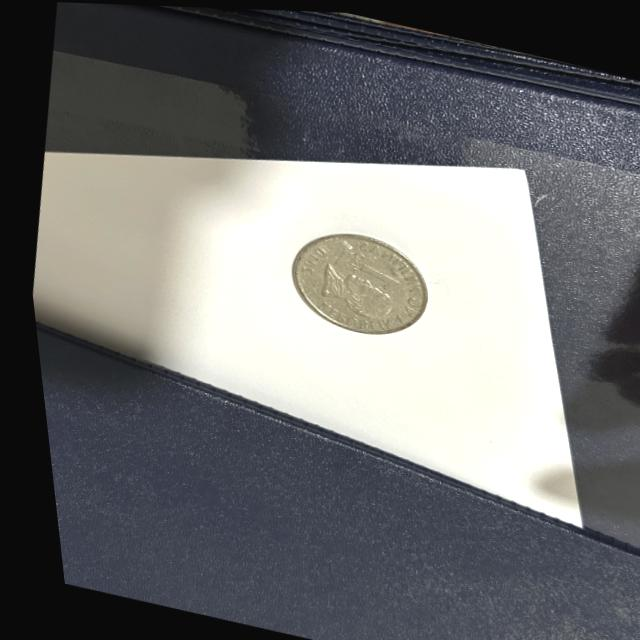1_Old_Front: (332, 242, 400, 290)
